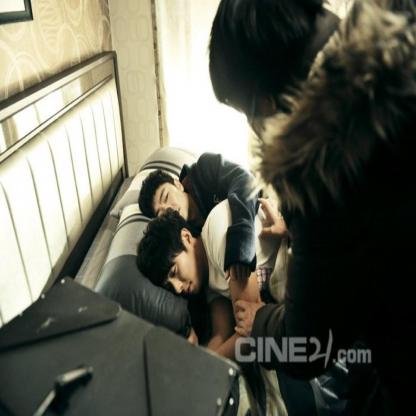face: (147, 237, 198, 295), (151, 180, 189, 224)
